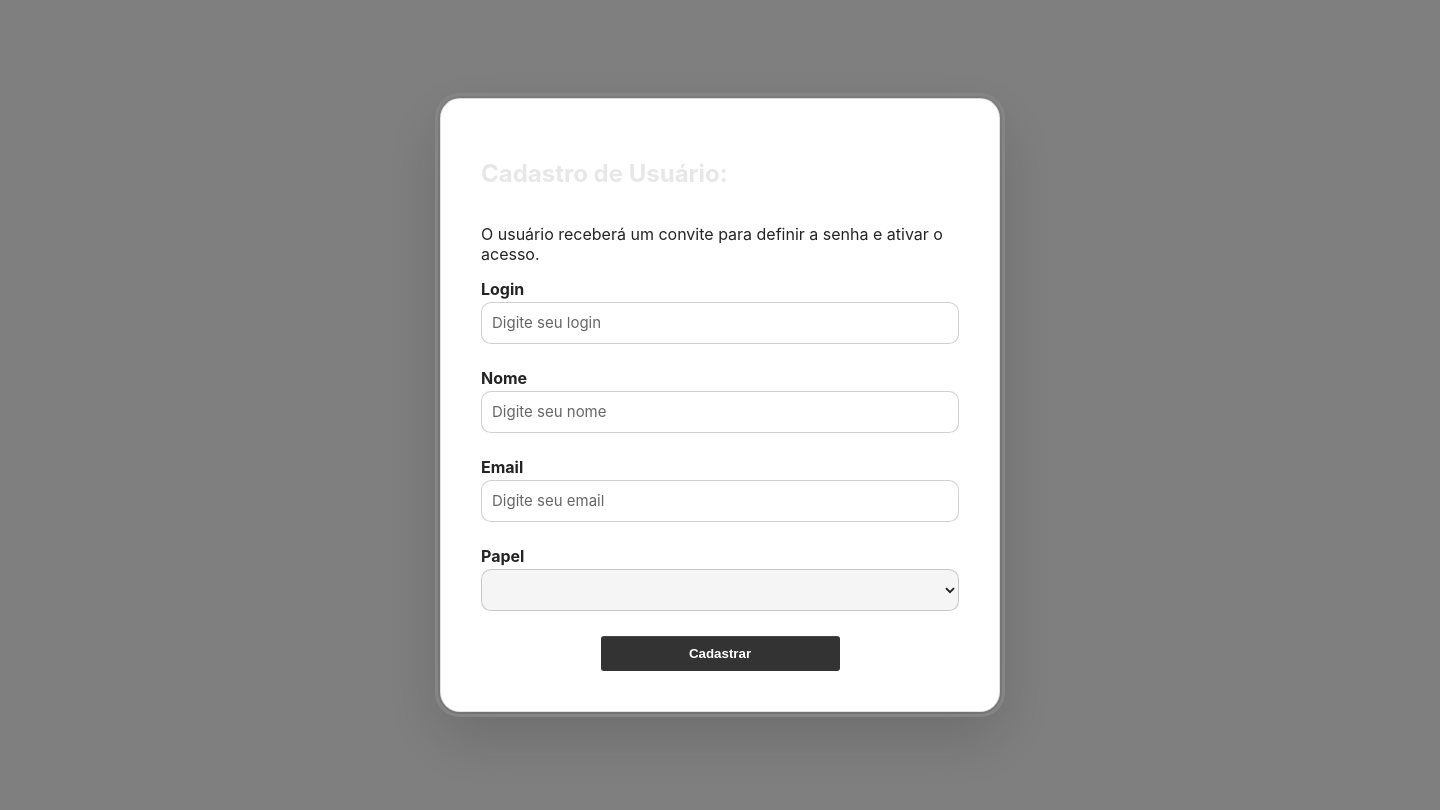
Scenario: delivery failure keeps the pending identity and offers retry instead of duplicate create
Later steps or results of the test are not shown.
Type "new.user" into the field with placeholder "Digite seu login" at (720, 323), box [481,302,959,344]
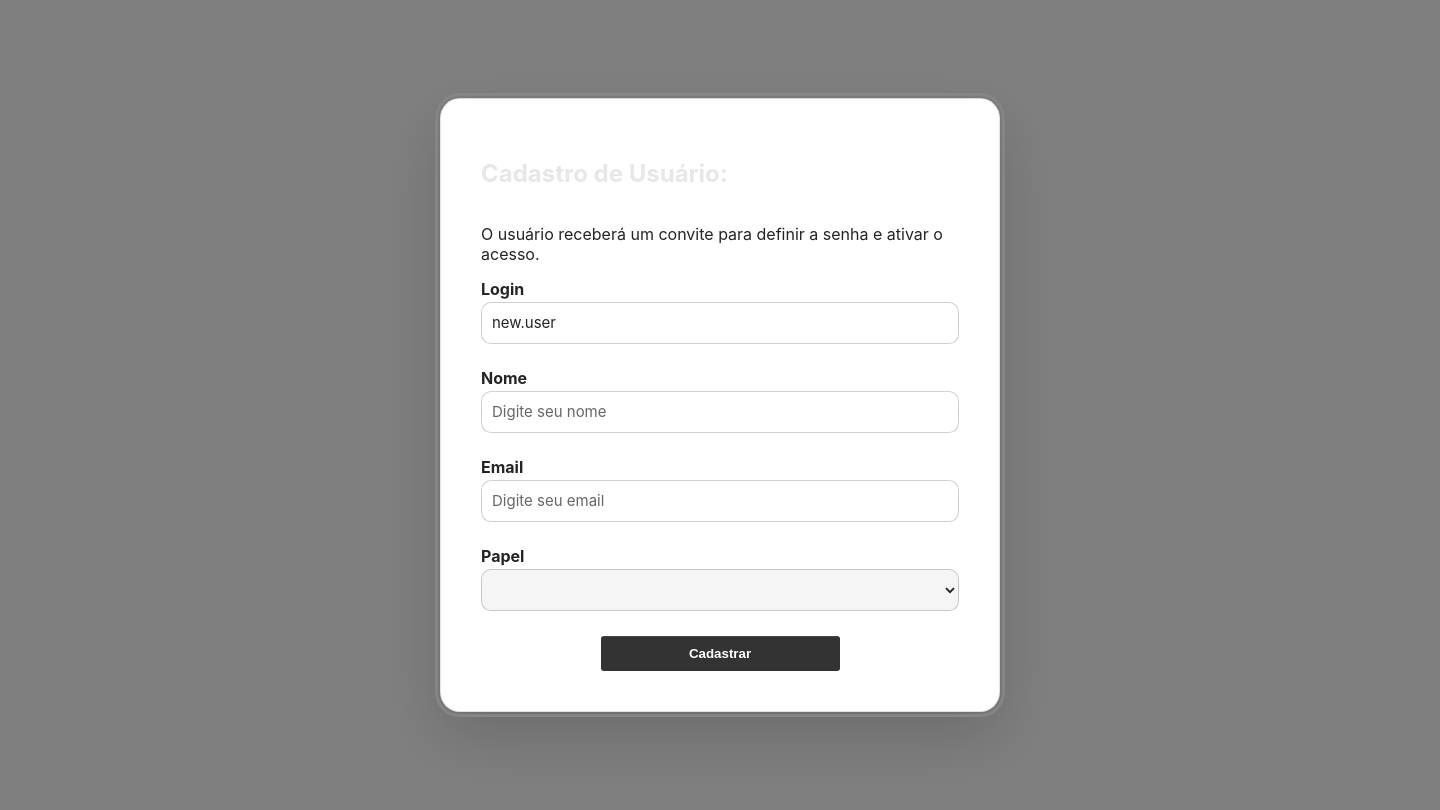
Type "New User" into the field with placeholder "Digite seu nome" at (720, 412), box [481,391,959,433]
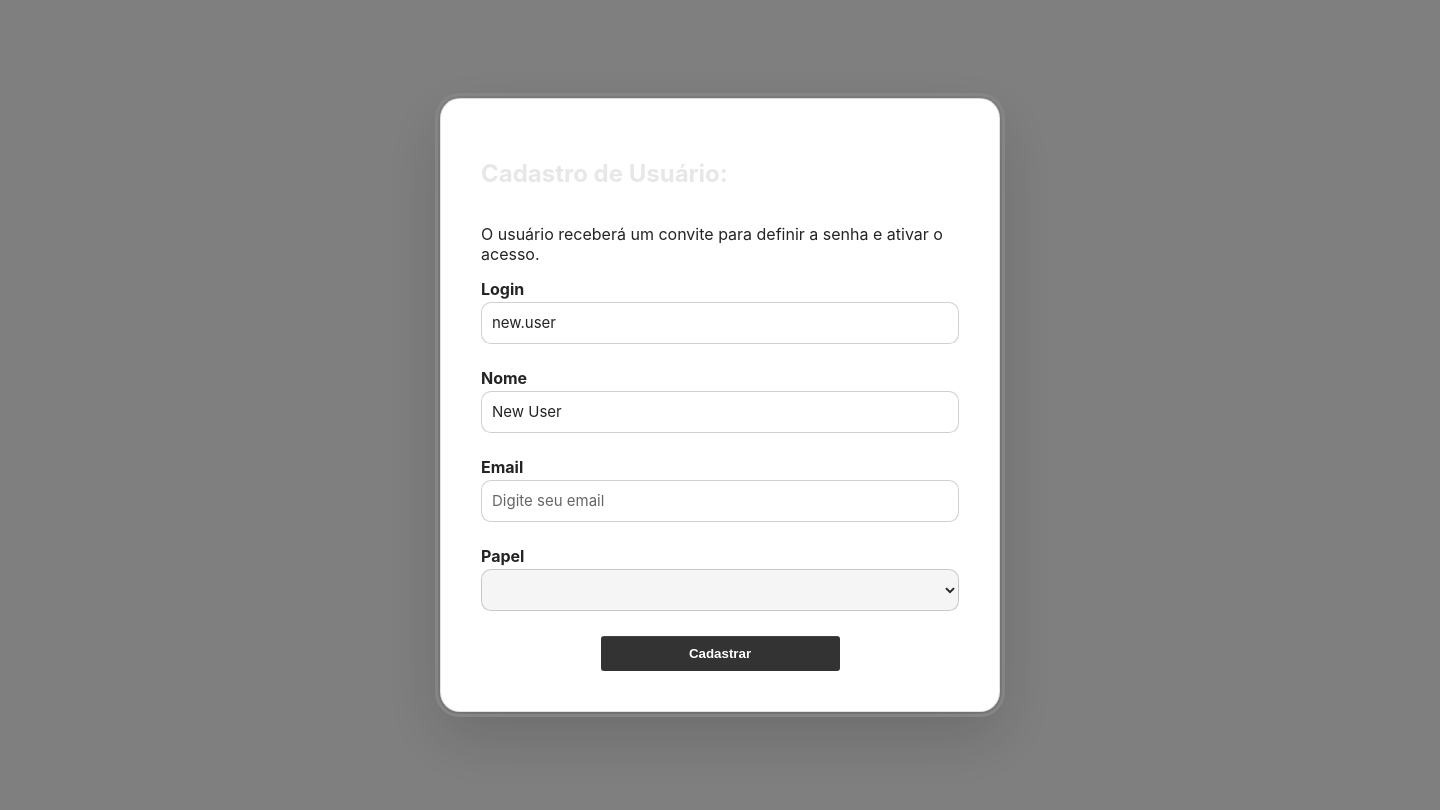
Type "new@example.com" into the field with placeholder "Digite seu email" at (720, 501), box [481,480,959,522]
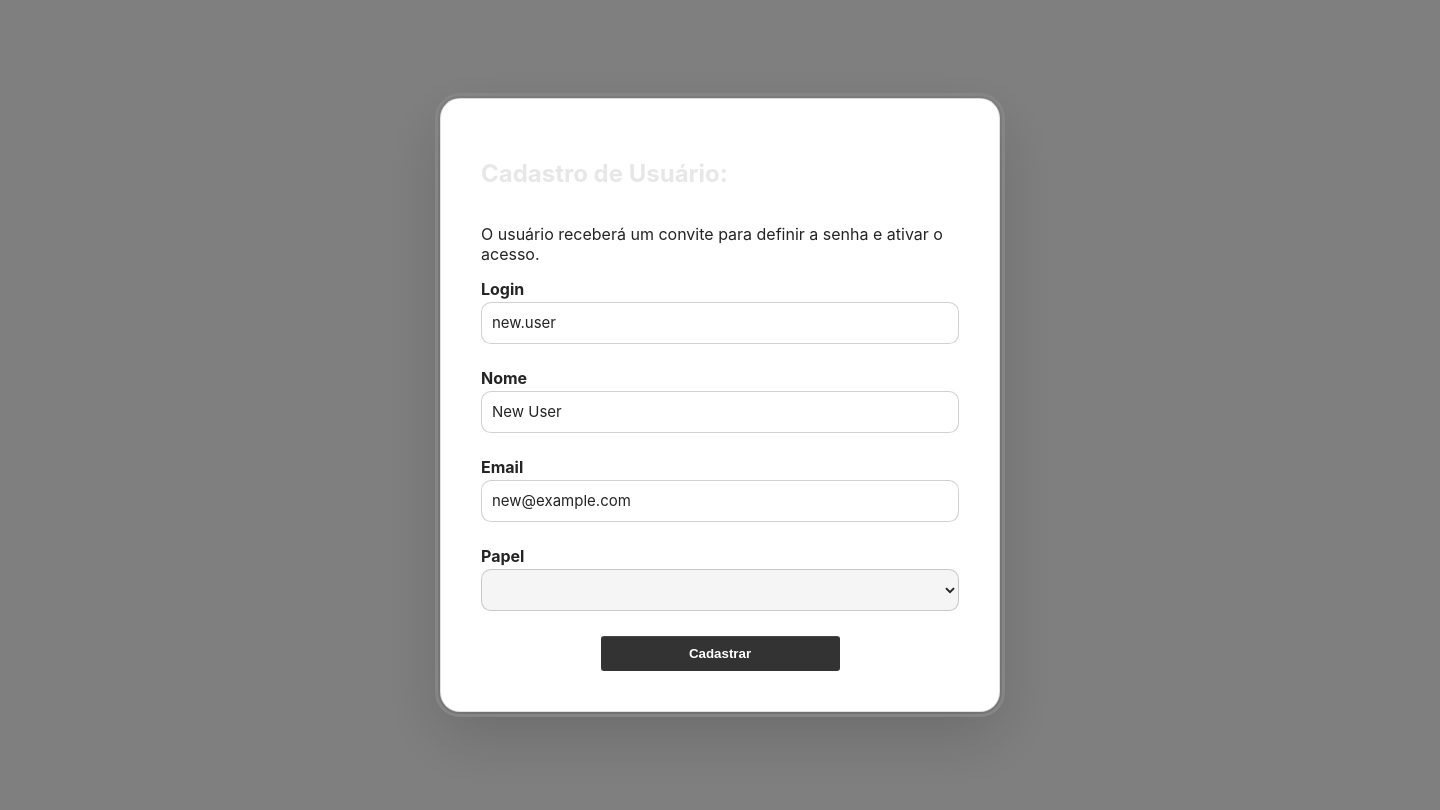
Select "CLIENTE" in the dropdown at (720, 590), box [481,569,959,611]
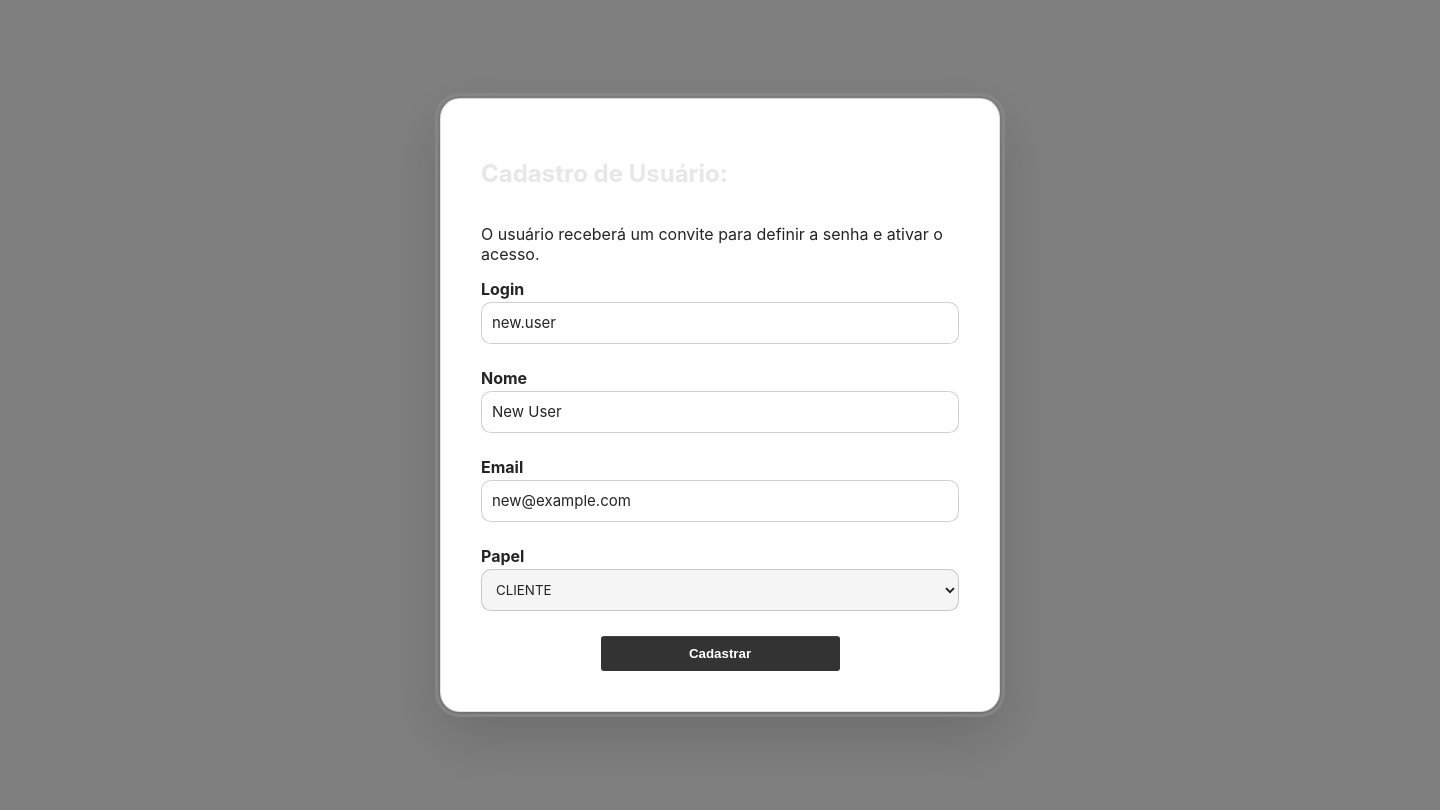
Click the button "Cadastrar" at (720, 653), box [600,636,840,671]
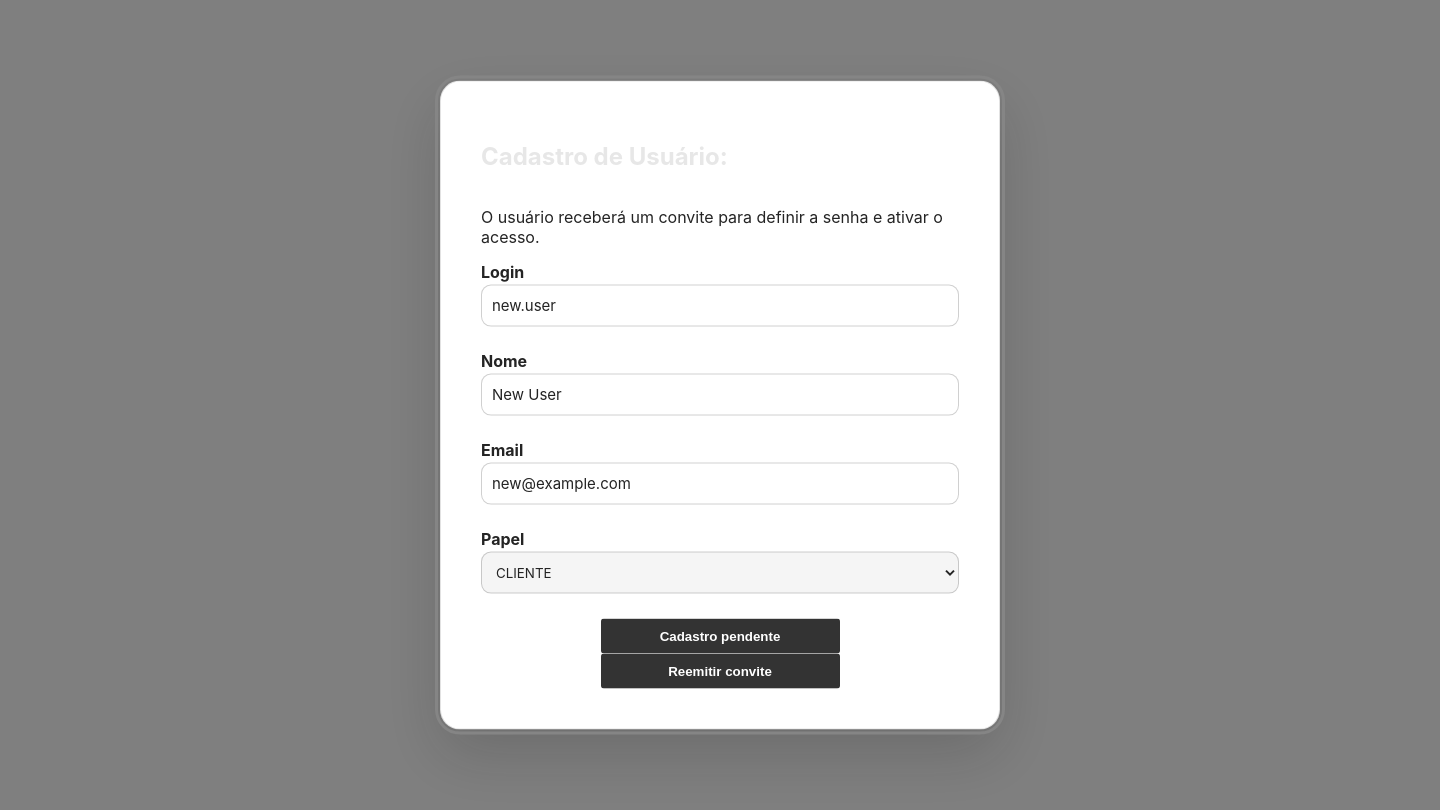
Now the button "Cadastro pendente" is disabled, box [600,618,840,653]
